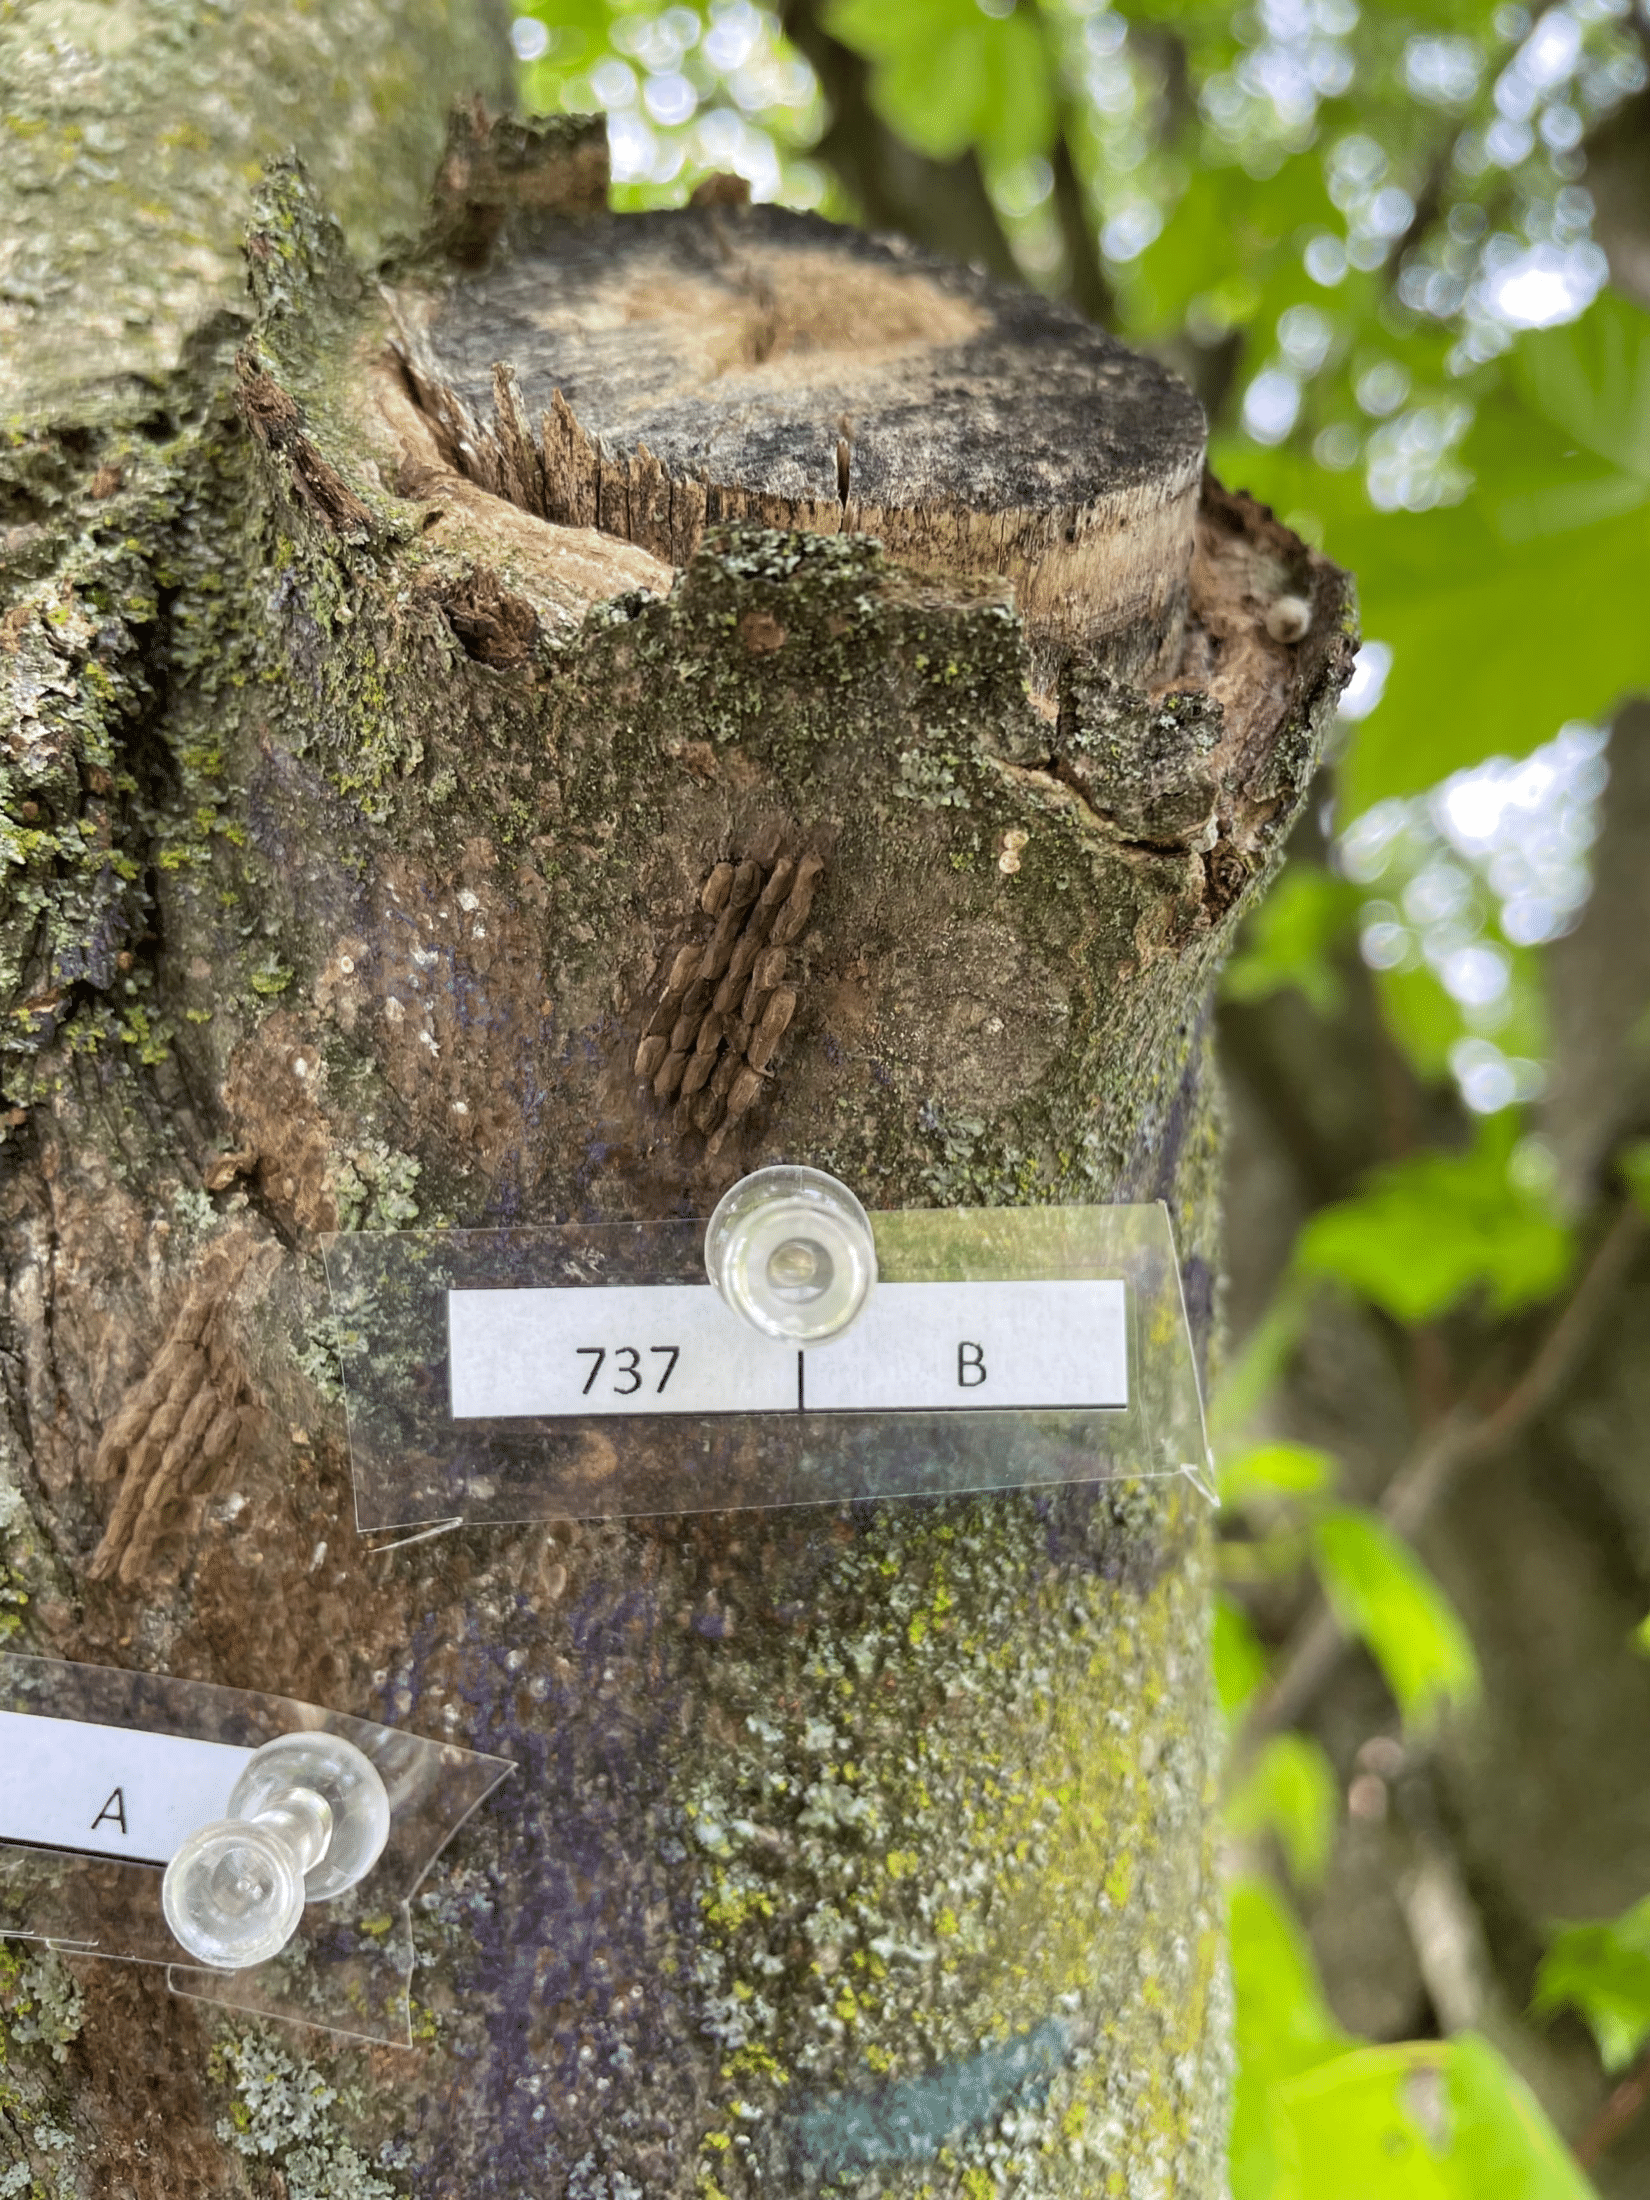egg masses: (652, 823, 853, 1131), (68, 1280, 257, 1595)
